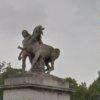Statue: (12, 18, 75, 79)
